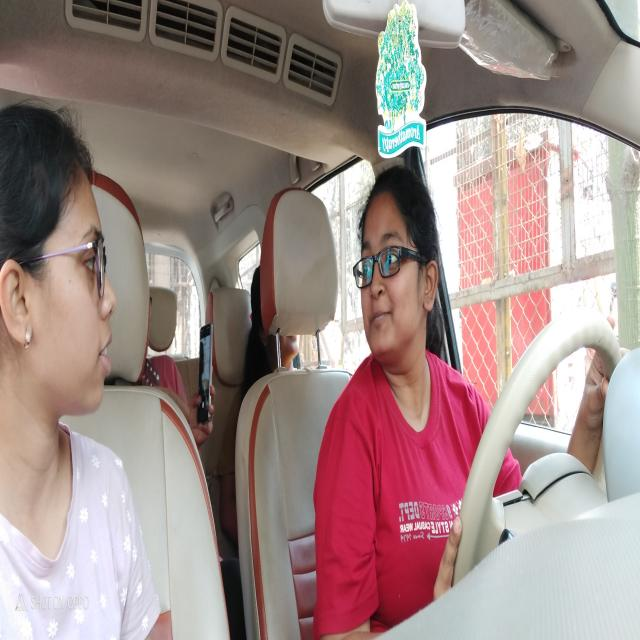LeftRight: (352, 167, 443, 366)
person: (0, 92, 115, 421), (250, 265, 307, 373)
